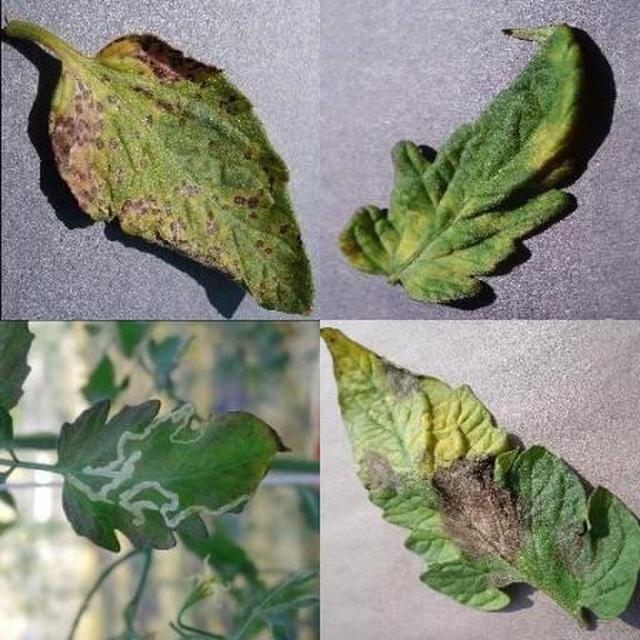Septoria Leaf: (249, 224, 640, 640)
